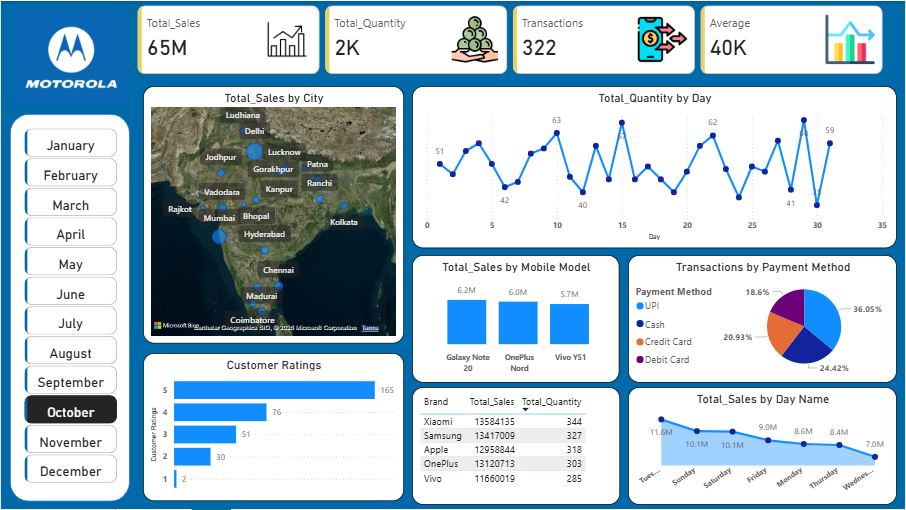

This screenshot's page, from the dashboard's own definition file:
{"tool":"powerbi","page":{"name":"Page 1","canvas":[1280,720],"ordinal":0},"visuals":[{"type":"image","box":[13.4,0,169.7,159.6],"z":0},{"type":"shape","box":[13.4,159.6,169.7,549.3],"z":1000},{"type":"advancedSlicerVisual","fields":{"Values":["sales_data.Date.Variation.Date Hierarchy.Month"]},"box":[28.6,176.4,141.1,515.7],"z":2000},{"type":"cardVisual","fields":{"Data":["sales_data.Total_Sales","sales_data.Total_Quantity","sales_data.Transactions","sales_data.Average"]},"box":[188.1,1.7,1068.3,107.5],"z":3000},{"type":"map","fields":{"Category":["sales_data.City"],"Size":["sales_data.Total_Sales"]},"box":[201.6,120.9,369.6,364.5],"z":4000},{"type":"lineChart","fields":{"Y":["sales_data.Total_Quantity"],"Category":["sales_data.Date.Variation.Date Hierarchy.Day"]},"box":[582.9,120.9,687,230.1],"z":5000},{"type":"clusteredColumnChart","fields":{"Category":["sales_data.Mobile Model"],"Y":["sales_data.Total_Sales"]},"box":[582.9,359.5,294,181.4],"z":6000},{"type":"pieChart","fields":{"Category":["sales_data.Payment Method"],"Y":["sales_data.Transactions"]},"box":[888.6,359.5,381.3,181.4],"z":7000},{"type":"clusteredBarChart","title":"Customer Ratings","fields":{"Category":["sales_data.Customer Ratings"],"Y":["Sum(sales_data.Customer Ratings)"]},"box":[201.6,498.9,369.6,210],"z":8000},{"type":"areaChart","fields":{"Category":["sales_data.Day Name"],"Y":["sales_data.Total_Sales"]},"box":[888.7,547.1,381.3,167.2],"z":9000},{"type":"tableEx","fields":{"Values":["sales_data.Brand","sales_data.Total_Sales","sales_data.Total_Quantity"]},"box":[582.5,547.1,294.8,167.2],"z":10000}]}

Visuals, with their boxes in screenshot pixels (x1, y1, x2, y2), scaled from the page's 1280x720 canvas onto the 906x510 screenshot:
image: box=[9, 0, 130, 113]
shape: box=[9, 113, 130, 502]
advancedSlicerVisual - sales_data.Date.Variation.Date Hierarchy.Month: box=[20, 125, 120, 490]
cardVisual - sales_data.Total_Sales x sales_data.Total_Quantity: box=[133, 1, 889, 77]
map - sales_data.City x sales_data.Total_Sales: box=[143, 86, 404, 344]
lineChart - sales_data.Total_Quantity x sales_data.Date.Variation.Date Hierarchy.Day: box=[413, 86, 899, 249]
clusteredColumnChart - sales_data.Mobile Model x sales_data.Total_Sales: box=[413, 255, 621, 383]
pieChart - sales_data.Payment Method x sales_data.Transactions: box=[629, 255, 899, 383]
"Customer Ratings" clusteredBarChart: box=[143, 353, 404, 502]
areaChart - sales_data.Day Name x sales_data.Total_Sales: box=[629, 388, 899, 506]
tableEx - sales_data.Brand x sales_data.Total_Sales: box=[412, 388, 621, 506]
